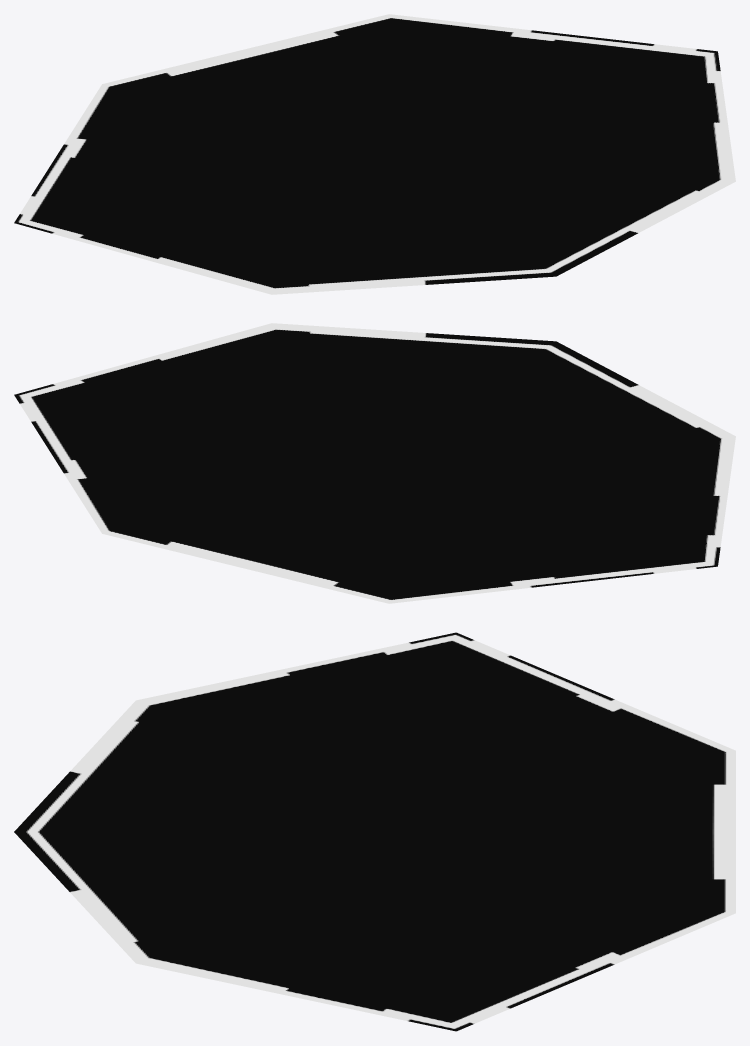
The model's file is Effect_tayujing02.FBX.
3 renders of one model, top to bottom at view 1: azimuth 30°, elevation 25°; view 2: azimuth 150°, elevation 25°; view 3: azimuth 270°, elevation 25°, orthographic. The views are drawn at different scales.
Parts seen in each view (by area): view 1: Effect_tayujing; view 2: Effect_tayujing; view 3: Effect_tayujing.
Boxes of the visible parts, x1=… form: Effect_tayujing: x1=14, y1=14, x2=735, y2=294; Effect_tayujing: x1=14, y1=323, x2=735, y2=603; Effect_tayujing: x1=14, y1=632, x2=735, y2=1031.
Bounding box in the file's own units: 33.54 × 0.926 × 25.65.
1 material, 1 textured.
